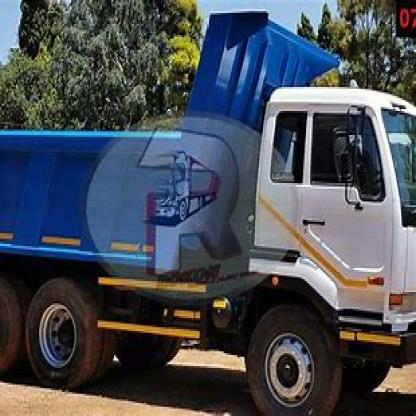dump_truck: (1, 6, 415, 410)
